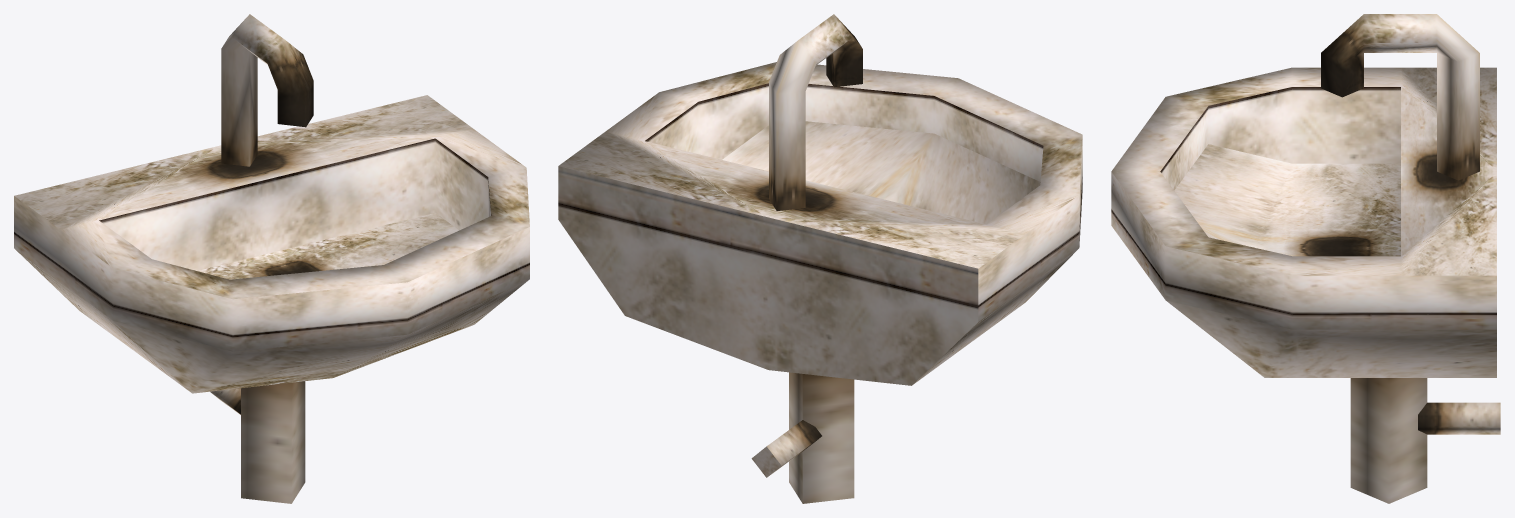
Rendered from M_Home_Garden_sink.fbx.
The picture shows the model from 3 angles, left to right: view 1: azimuth 30°, elevation 25°; view 2: azimuth 150°, elevation 25°; view 3: azimuth 270°, elevation 25°; orthographic projection. The views are drawn at different scales.
Visible parts, largest first — view 1: M_Home_Garden_sink; view 2: M_Home_Garden_sink; view 3: M_Home_Garden_sink.
Part boxes in pixels (box(x1,y1,x2,y2)): M_Home_Garden_sink: box(14, 14, 529, 503); M_Home_Garden_sink: box(558, 14, 1082, 503); M_Home_Garden_sink: box(1111, 14, 1500, 503).
Size of the model in its own units: 60.88 by 64.66 by 48.16.
